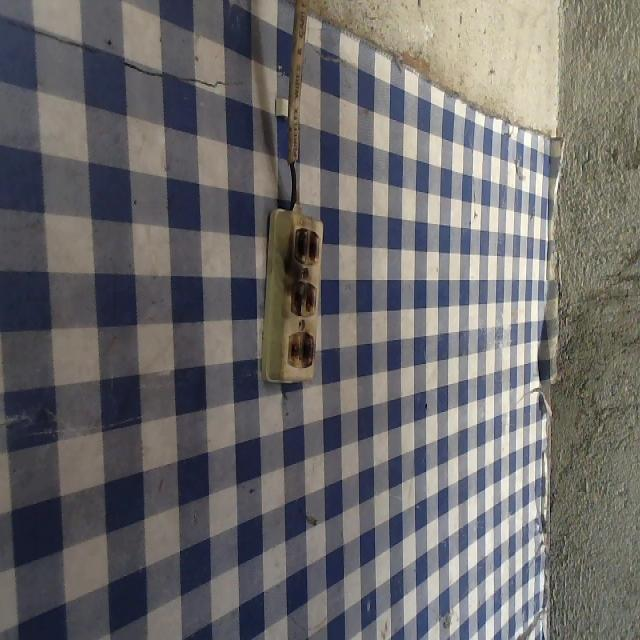-: (276, 324, 317, 367), (287, 274, 320, 322), (289, 223, 324, 265)
